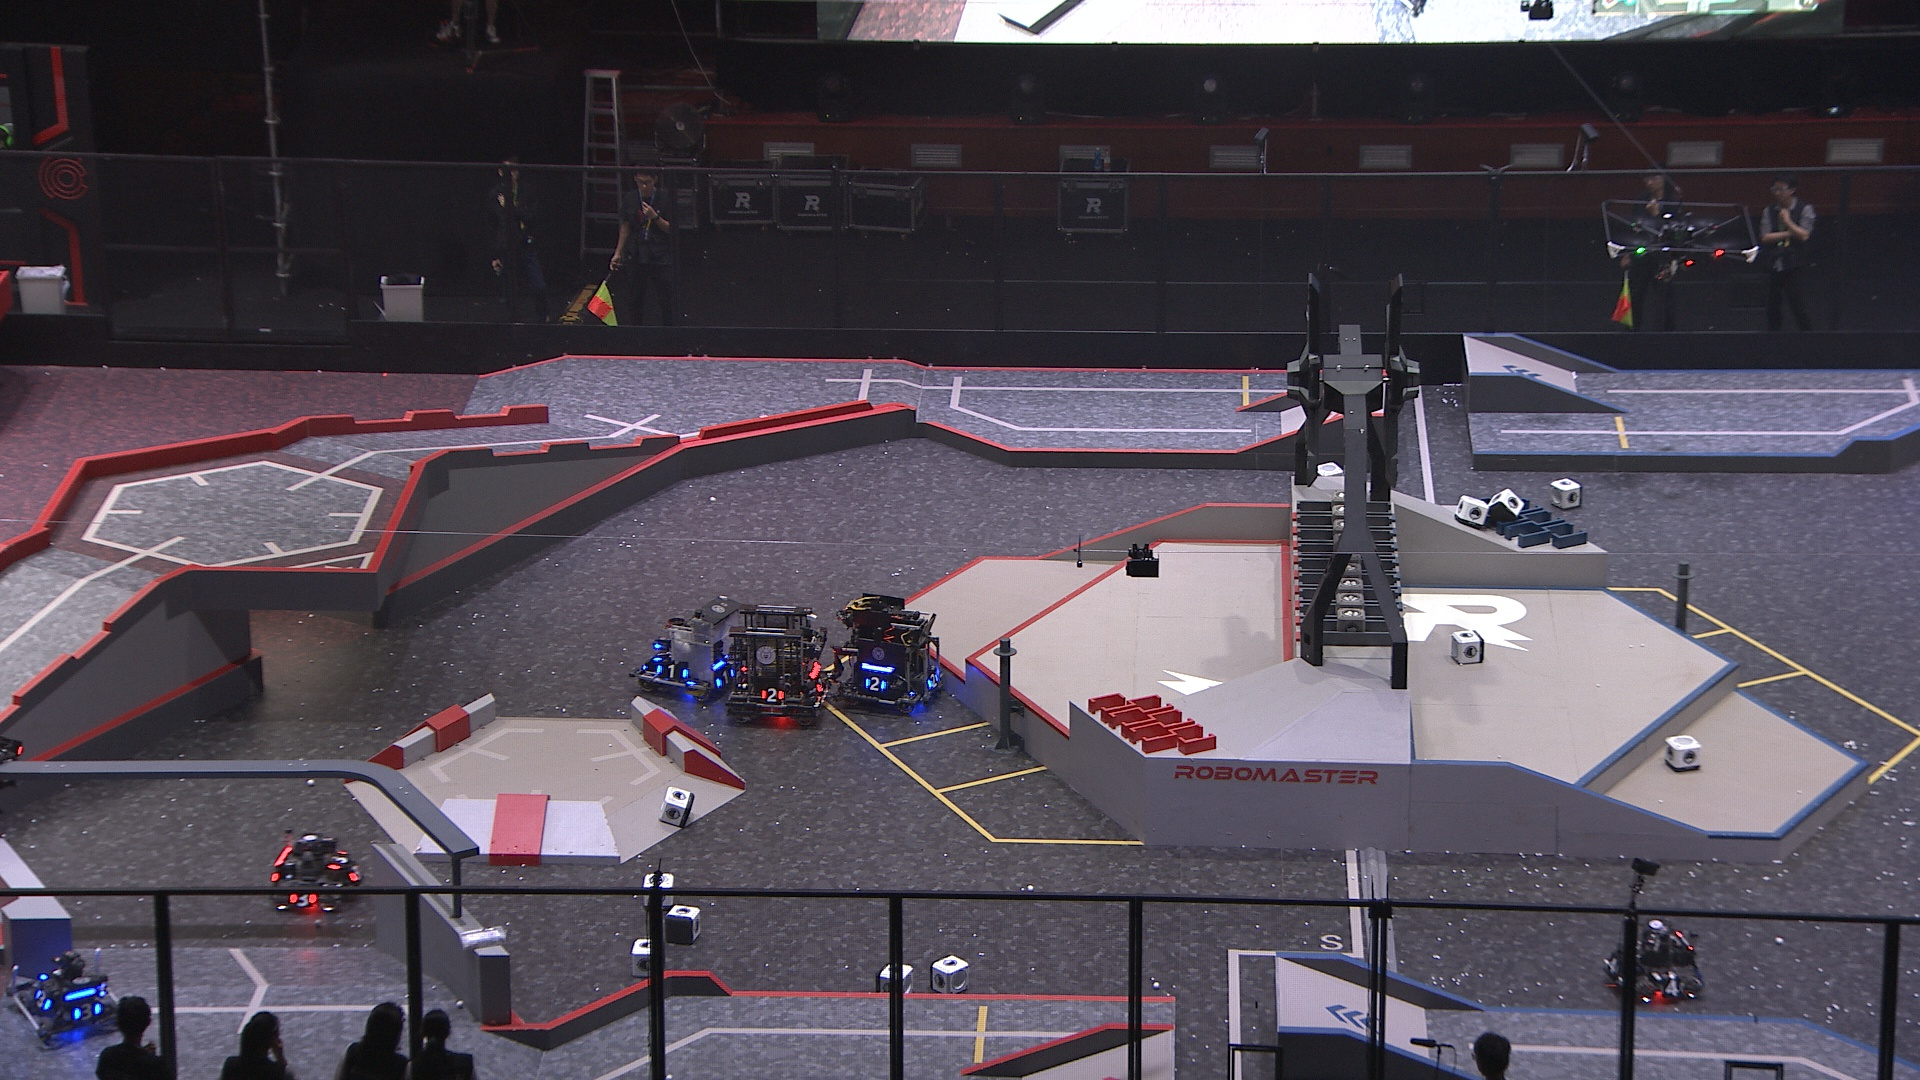armor: (69, 1000, 103, 1025), (655, 661, 694, 683), (286, 887, 320, 907), (324, 847, 352, 870), (713, 665, 736, 694), (1658, 977, 1685, 998), (32, 988, 54, 1011), (760, 684, 785, 704), (342, 861, 363, 884), (650, 641, 670, 665), (862, 675, 887, 694), (1604, 949, 1621, 975), (922, 671, 942, 692), (814, 675, 828, 695)
car: (829, 585, 949, 713), (632, 591, 746, 703), (724, 599, 832, 717), (7, 949, 123, 1050), (1598, 918, 1706, 1007), (269, 829, 359, 913)
